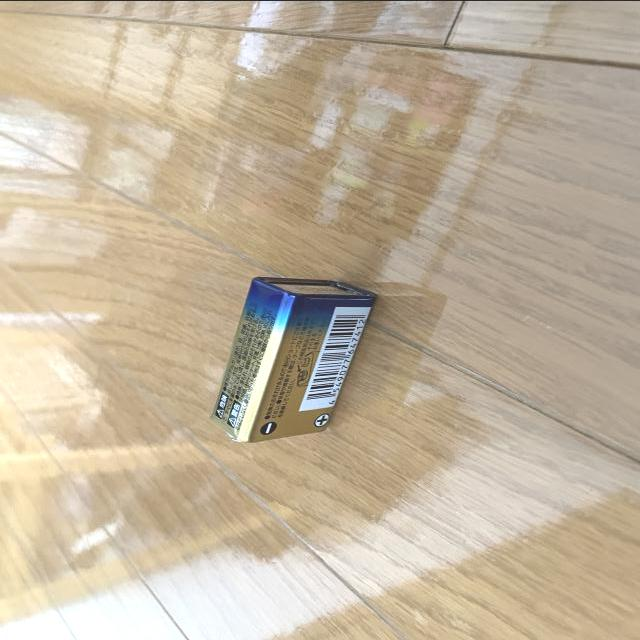9V: (207, 276, 381, 444)
